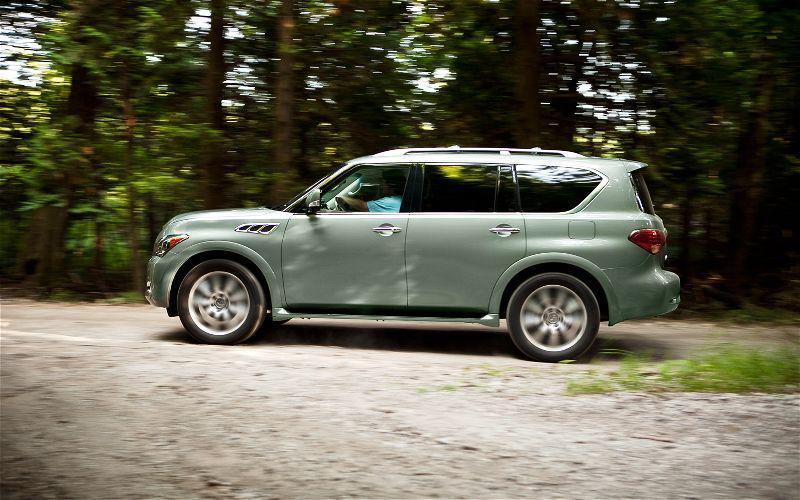Car: (141, 131, 687, 373)
